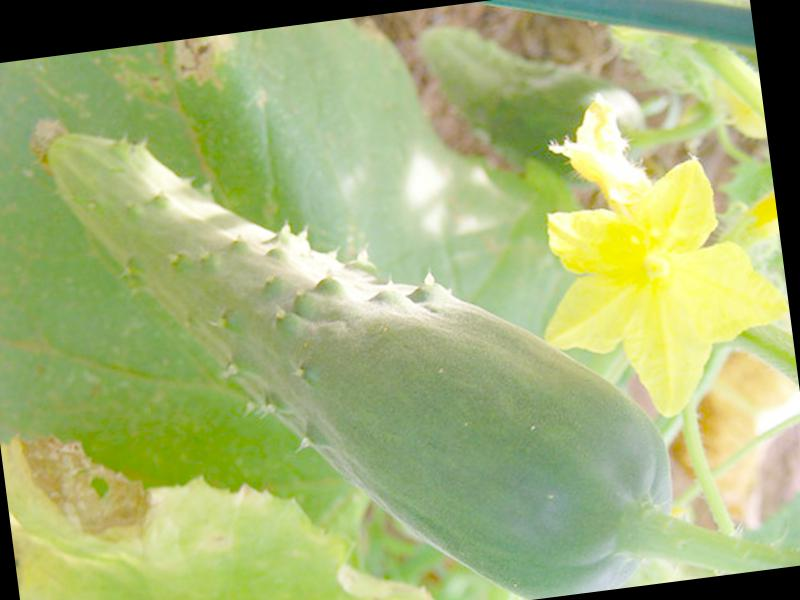Cucumber: (28, 45, 683, 600)
